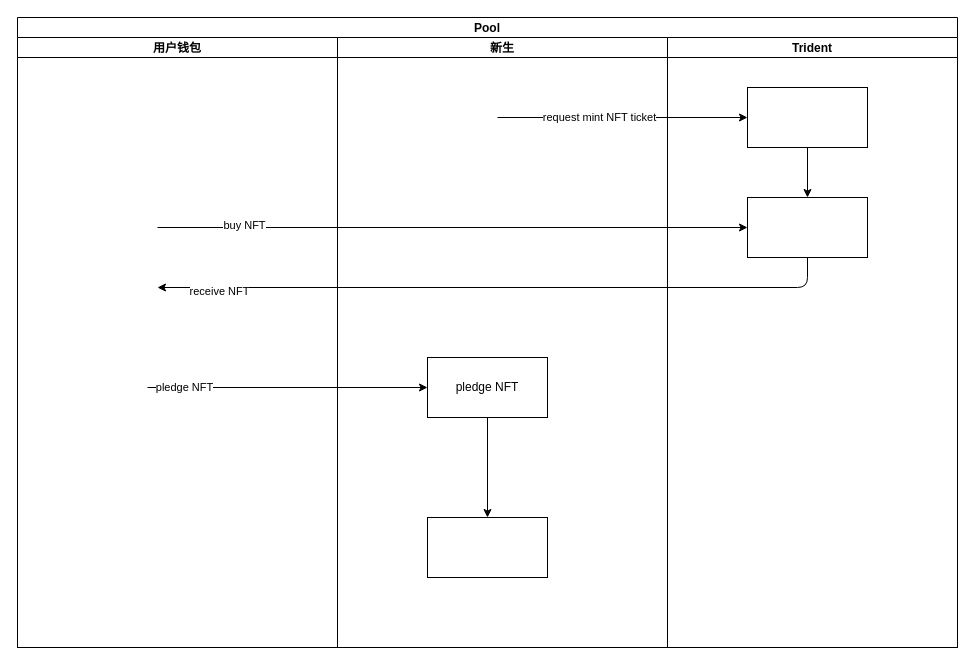
This 975x665 diagram has some shape labels left out. Here are the shapes that lost their labels. From the top down, the centre of each, then its label:
At [807,117]: "mint NFT ticket".
At [807,227]: "transfer NFT".
At [487,547]: "verify NFT ticket".
